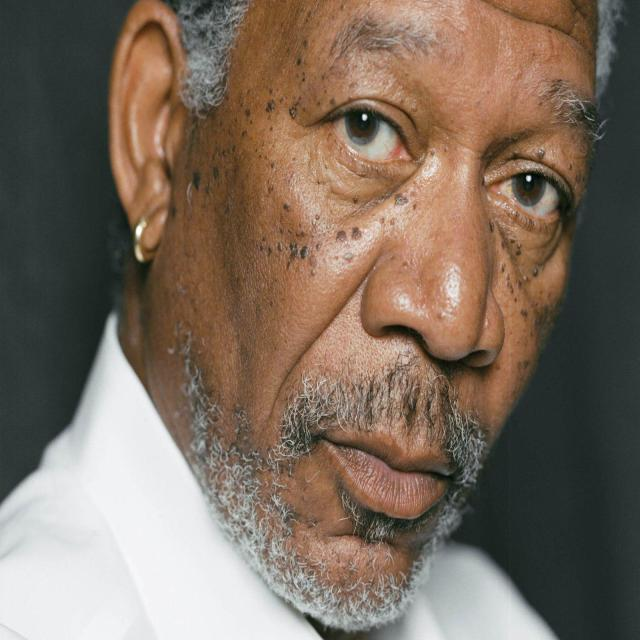no-earmuff: (106, 0, 190, 263)
